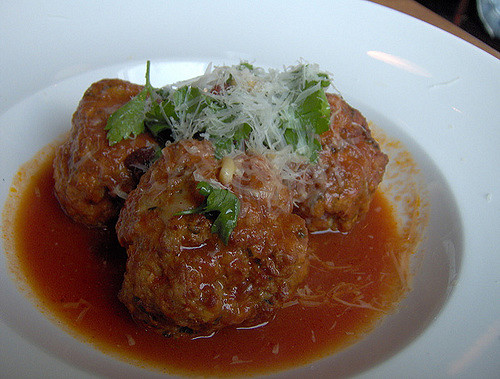meatballs: (119, 144, 303, 305)
